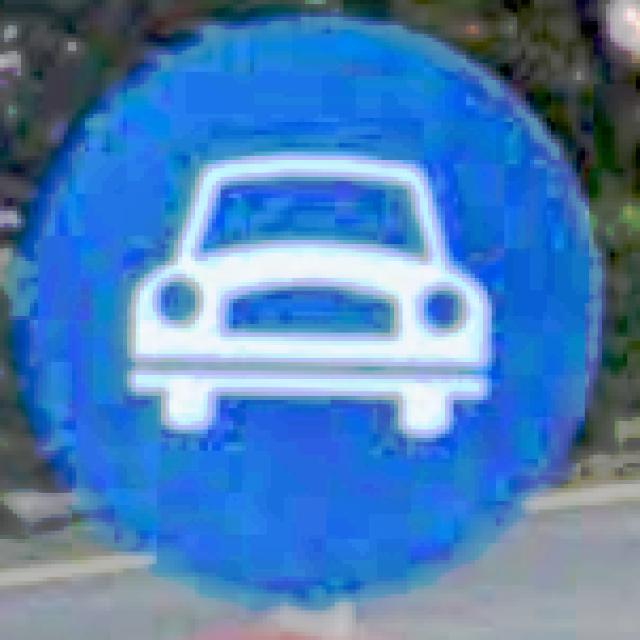car: (17, 9, 598, 606)
